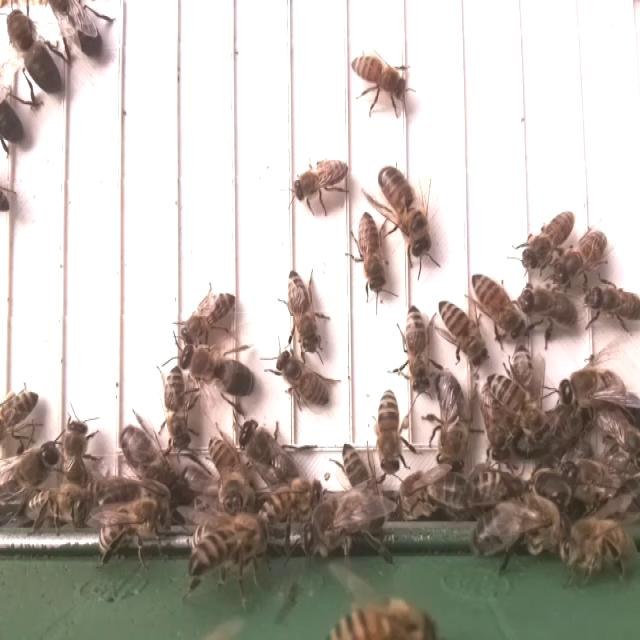Drone: (3, 6, 66, 99), (377, 162, 435, 260), (118, 422, 186, 501), (236, 415, 304, 493), (176, 341, 258, 403), (433, 368, 472, 474), (553, 365, 632, 410)
Worker: (482, 371, 549, 441), (467, 269, 522, 340), (272, 347, 333, 411), (434, 296, 488, 367), (519, 207, 576, 269), (553, 224, 610, 283), (285, 266, 324, 352), (348, 51, 411, 103), (518, 283, 582, 332), (402, 299, 433, 395), (290, 158, 354, 203), (374, 386, 405, 478), (581, 280, 640, 322), (356, 209, 385, 294)
